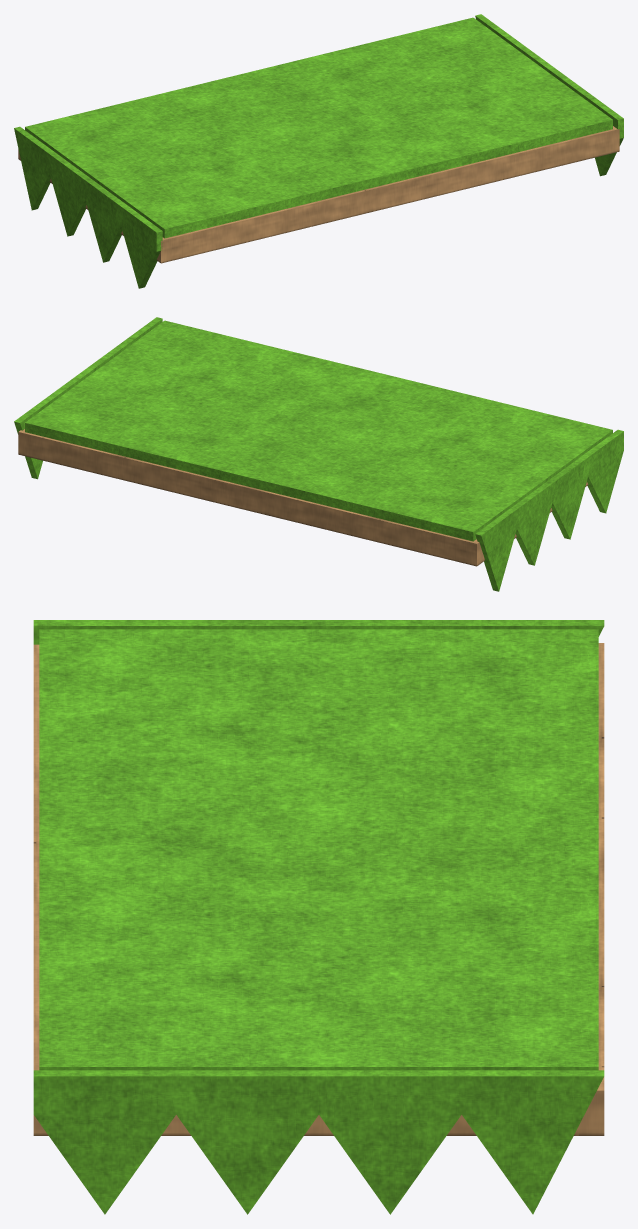
The model's file is board_grass.gltf.
3 renders of one model, top to bottom at view 1: azimuth 30°, elevation 25°; view 2: azimuth 150°, elevation 25°; view 3: azimuth 270°, elevation 25°, orthographic. The views are drawn at different scales.
Visible parts, largest first — view 1: board_grass; view 2: board_grass; view 3: board_grass.
Boxes of the visible parts, x1=… form: board_grass: x1=14, y1=14, x2=623, y2=288; board_grass: x1=14, y1=317, x2=623, y2=591; board_grass: x1=33, y1=620, x2=604, y2=1214.
Bounding box in the file's own units: 1.83 × 0.26 × 0.97.
3 materials, 3 textured.
